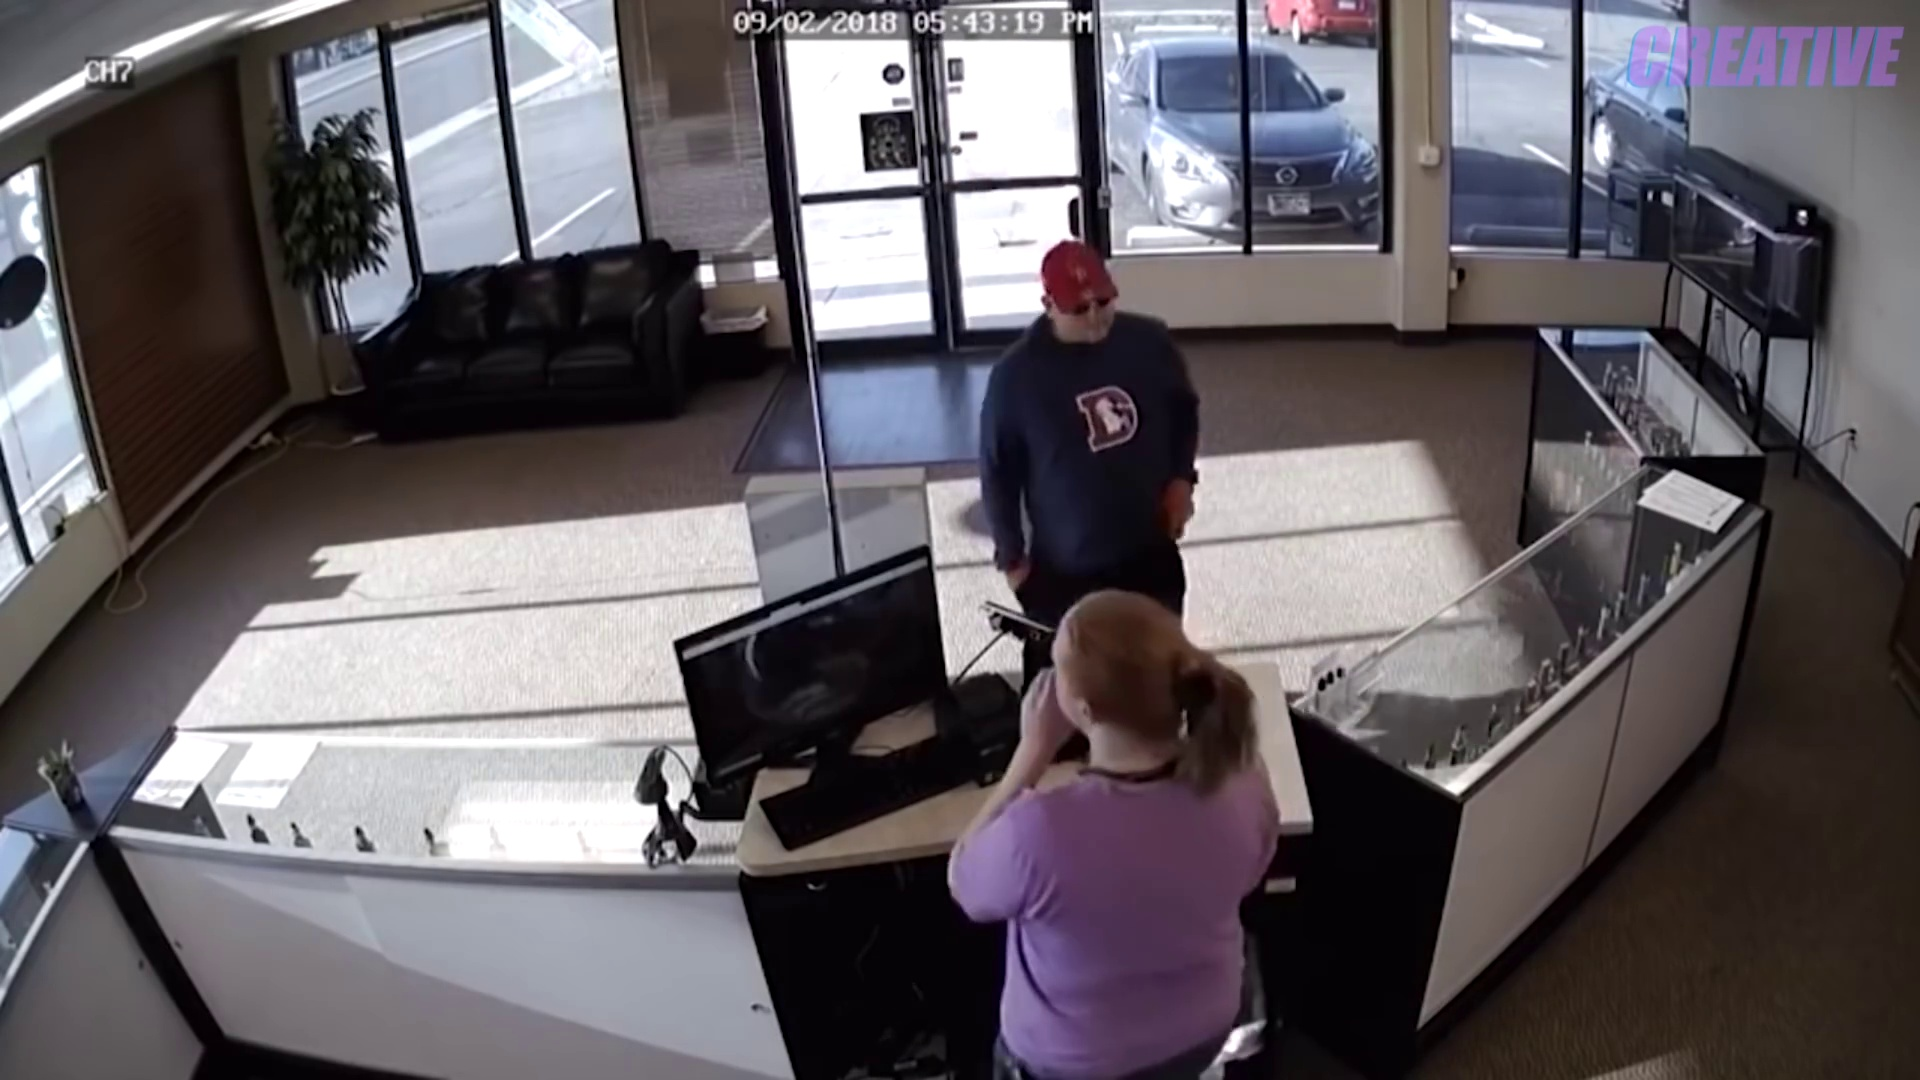face: (1055, 287, 1113, 343)
